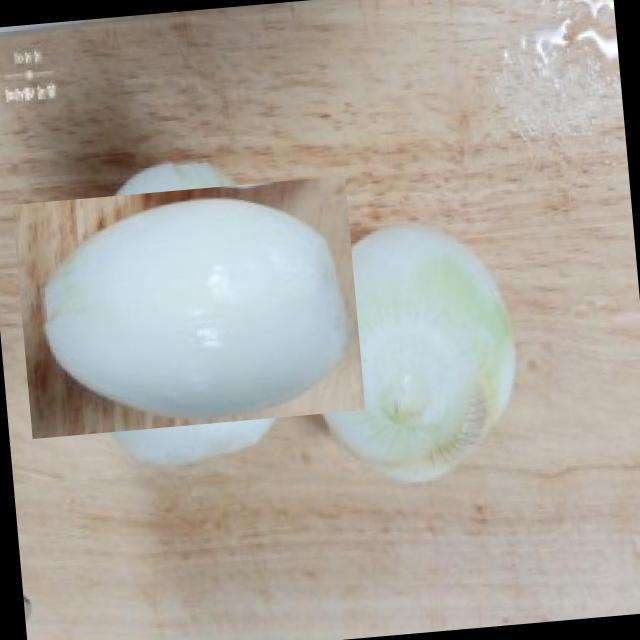Onion: (34, 152, 342, 462), (291, 198, 534, 502)
